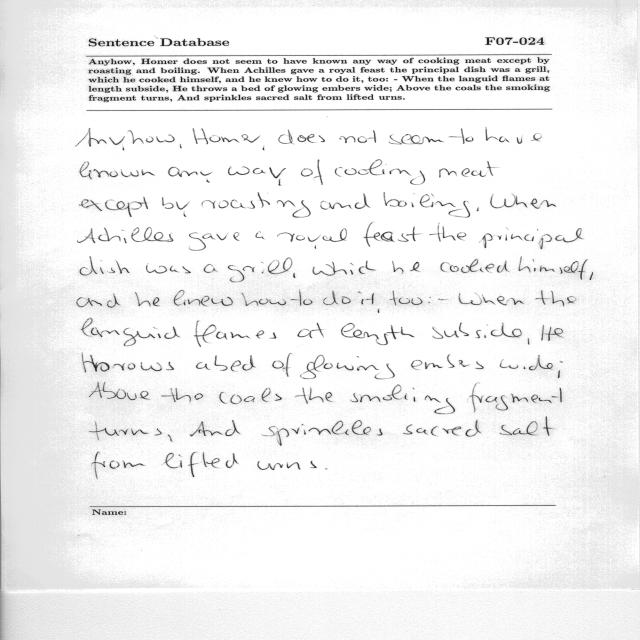word: (263, 420, 383, 446), (350, 385, 455, 414), (202, 192, 310, 218), (81, 318, 180, 346), (341, 309, 414, 345), (470, 384, 562, 412), (335, 159, 425, 185), (300, 355, 395, 379), (384, 192, 470, 218), (479, 228, 583, 249), (76, 128, 175, 150), (194, 321, 276, 347), (164, 452, 238, 477), (82, 353, 174, 372), (228, 258, 292, 283), (519, 257, 588, 280), (193, 129, 265, 151), (78, 227, 174, 243), (277, 228, 347, 249), (432, 323, 522, 339), (79, 197, 148, 217), (92, 452, 145, 478), (79, 162, 155, 180), (364, 223, 421, 247), (403, 420, 481, 437), (89, 422, 162, 440), (228, 167, 286, 186), (89, 382, 150, 400), (411, 355, 484, 370), (219, 388, 282, 404), (491, 194, 557, 209), (500, 417, 552, 436), (173, 290, 233, 306), (486, 127, 542, 144), (441, 259, 509, 273), (189, 232, 239, 251), (80, 257, 130, 276), (313, 261, 376, 276), (439, 161, 494, 177), (321, 193, 370, 210), (191, 420, 241, 436), (500, 355, 553, 370), (459, 293, 524, 305), (278, 129, 325, 144), (429, 223, 466, 242), (168, 167, 212, 182), (215, 356, 256, 371), (536, 291, 574, 307), (77, 294, 120, 308), (295, 388, 332, 404), (162, 388, 204, 402), (241, 293, 286, 306), (301, 159, 323, 185), (389, 134, 443, 144), (258, 461, 317, 470), (162, 197, 188, 217), (272, 353, 292, 377), (340, 130, 376, 143), (146, 264, 191, 274), (449, 128, 474, 144), (323, 291, 351, 305), (298, 323, 324, 338), (135, 292, 160, 307), (291, 290, 313, 306), (541, 325, 563, 341), (392, 261, 419, 274), (358, 292, 374, 305), (399, 298, 423, 305), (204, 264, 217, 273), (196, 362, 210, 370), (390, 291, 396, 306), (558, 361, 563, 378), (255, 231, 264, 239), (168, 435, 172, 442), (590, 272, 593, 280), (428, 297, 431, 303), (528, 339, 530, 345), (294, 273, 296, 278), (476, 208, 479, 211), (438, 299, 447, 300), (180, 144, 182, 148), (326, 469, 328, 469)
